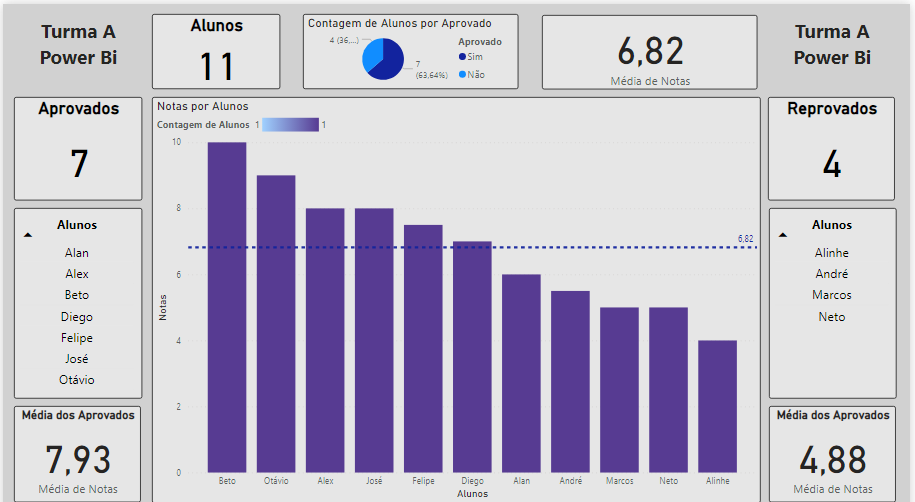

This screenshot's page, from the dashboard's own definition file:
{"tool":"powerbi","page":{"name":"Página 1","canvas":[1280,720],"ordinal":0},"visuals":[{"type":"clusteredColumnChart","fields":{"Category":["teste (2).Alunos"],"Y":["Sum(teste (2).Notas)"]},"box":[209.6,131.2,859.2,572.8],"z":0},{"type":"card","title":"Aprovados","fields":{"Values":["CountNonNull(teste (2).Aprovado)"]},"box":[16,131.2,180.8,145.6],"z":1000},{"type":"textbox","box":[17.6,14.4,179.2,105.6],"z":2000},{"type":"tableEx","fields":{"Values":["teste (2).Alunos"]},"box":[16,288,180.8,268.8],"z":3000},{"type":"card","title":"Média dos Aprovados","fields":{"Values":["Avg(teste (2).Notas)"]},"box":[16,568,179.2,136],"z":4000},{"type":"card","title":"Reprovados","fields":{"Values":["CountNonNull(teste (2).Aprovado)"]},"box":[1080,131.2,179.2,145.6],"z":5000},{"type":"tableEx","fields":{"Values":["teste (2).Alunos"]},"box":[1080.7,288.6,179.6,268.8],"z":6000},{"type":"card","title":"Média dos Aprovados","fields":{"Values":["Avg(teste (2).Notas)"]},"box":[1081.6,568,179.2,136],"z":7000},{"type":"card","title":"Alunos","fields":{"Values":["CountNonNull(teste (2).Aprovado)"]},"box":[209.6,14.4,180.8,105.6],"z":7001},{"type":"pieChart","fields":{"Category":["teste (2).Aprovado"],"Y":["CountNonNull(teste (2).Alunos)"]},"box":[422.9,14.1,304.1,106.1],"z":7002},{"type":"card","fields":{"Values":["Avg(teste (2).Notas)"]},"box":[761,15.6,304.1,104.7],"z":7003},{"type":"textbox","box":[1080.7,14.1,178.2,106.1],"z":7004}]}

Visuals, with their boxes in screenshot pixels (x1, y1, x2, y2), scaled from the page's 1280x720 canvas onto the 915x502 screenshot:
clusteredColumnChart - teste (2).Alunos x Sum(teste (2).Notas): box(150, 91, 764, 491)
"Aprovados" card: box(11, 91, 141, 193)
textbox: box(13, 10, 141, 84)
tableEx - teste (2).Alunos: box(11, 201, 141, 388)
"Média dos Aprovados" card: box(11, 396, 140, 491)
"Reprovados" card: box(772, 91, 900, 193)
tableEx - teste (2).Alunos: box(773, 201, 901, 389)
"Média dos Aprovados" card: box(773, 396, 901, 491)
"Alunos" card: box(150, 10, 279, 84)
pieChart - teste (2).Aprovado x CountNonNull(teste (2).Alunos): box(302, 10, 520, 84)
card - Avg(teste (2).Notas): box(544, 11, 761, 84)
textbox: box(773, 10, 900, 84)
